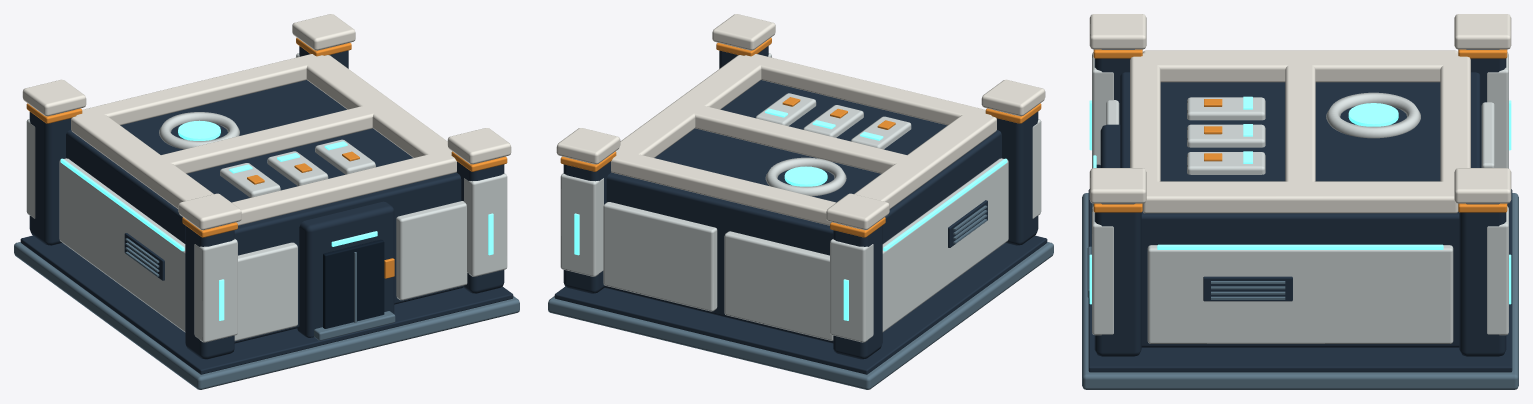
Rendered from workshop-advanced.glb.
3 renders of one model, left to right at view 1: azimuth 30°, elevation 25°; view 2: azimuth 150°, elevation 25°; view 3: azimuth 270°, elevation 25°, orthographic. The views are drawn at different scales.
Visible parts, largest first — view 1: inner-volume, foundation-inlay, side-wall--1, foundation-4-by-4, front-panel-1, door-frame, roof-cross-1.42, roof-cross-0, roof-cross--1.42, front-panel--1, roof-rail-1, roof-rail--1 (+20 smaller); view 2: inner-volume, foundation-inlay, rear-panel-1, side-wall--1, rear-panel--1, foundation-4-by-4, roof-cross--1.42, roof-cross-1.42, roof-cross-0, roof-rail-1, roof-rail--1, corner-shell-1.67--1.67 (+17 smaller); view 3: inner-volume, side-wall-1, foundation-inlay, foundation-4-by-4, roof-rail-1, roof-rail--1, corner-1.67--1.67, corner-1.67-1.67, roof-cross-0, roof-cross-1.42, roof-cross--1.42, corner-shell-1.67--1.67 (+22 smaller).
Part boxes in pixels (box(x1,y1,x2,y2)): inner-volume: box(66, 80, 462, 343); foundation-inlay: box(20, 235, 513, 374); side-wall--1: box(59, 158, 185, 332); foundation-4-by-4: box(14, 242, 519, 389); front-panel-1: box(396, 201, 467, 300); door-frame: box(297, 201, 394, 337); roof-cross-1.42: box(232, 153, 456, 225); roof-cross-0: box(141, 101, 393, 173); roof-cross--1.42: box(76, 54, 327, 125); front-panel--1: box(234, 242, 297, 341); roof-rail-1: box(304, 55, 451, 157); roof-rail--1: box(71, 111, 213, 208); inner-volume: box(605, 80, 1001, 343); foundation-inlay: box(554, 235, 1047, 374); rear-panel-1: box(603, 202, 717, 311); side-wall--1: box(882, 158, 1008, 332); rear-panel--1: box(724, 231, 833, 340); foundation-4-by-4: box(548, 242, 1053, 389); roof-cross--1.42: box(611, 153, 835, 225); roof-cross-1.42: box(740, 54, 991, 125); roof-cross-0: box(674, 101, 925, 173); roof-rail-1: box(616, 55, 764, 157); roof-rail--1: box(854, 111, 996, 208); corner-shell-1.67--1.67: box(560, 173, 603, 276); inner-volume: box(1120, 72, 1480, 347); side-wall-1: box(1147, 245, 1453, 343); foundation-inlay: box(1088, 189, 1512, 372); foundation-4-by-4: box(1082, 193, 1518, 389); roof-rail-1: box(1142, 181, 1458, 213); roof-rail--1: box(1143, 50, 1457, 82); corner-1.67--1.67: box(1459, 203, 1506, 356); corner-1.67-1.67: box(1094, 203, 1141, 356); roof-cross-0: box(1285, 53, 1315, 189); roof-cross-1.42: box(1130, 53, 1160, 187); roof-cross--1.42: box(1440, 53, 1470, 186); corner-shell-1.67--1.67: box(1487, 206, 1508, 335).
Bounding box in the file's own units: 4 × 2 × 4.
